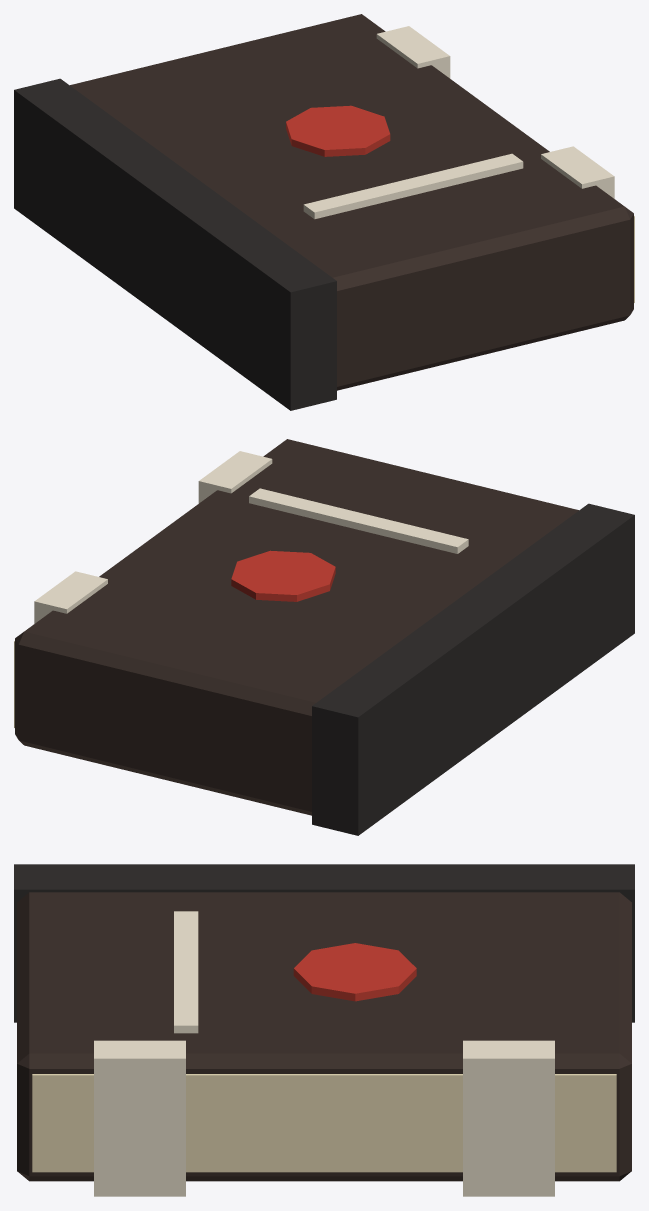
Rendered from DeadBook.fbx.
The picture shows the model from 3 angles, top to bottom: view 1: azimuth 30°, elevation 25°; view 2: azimuth 150°, elevation 25°; view 3: azimuth 270°, elevation 25°; orthographic projection. The views are drawn at different scales.
Parts seen in each view (by area): view 1: DeadBook; view 2: DeadBook; view 3: DeadBook.
Boxes of the visible parts, box(x1,y1,x2,y2) form: DeadBook: box(14, 14, 634, 410); DeadBook: box(14, 439, 634, 835); DeadBook: box(14, 864, 634, 1196).
Size of the model in its own units: 1.5 by 0.5 by 2.
